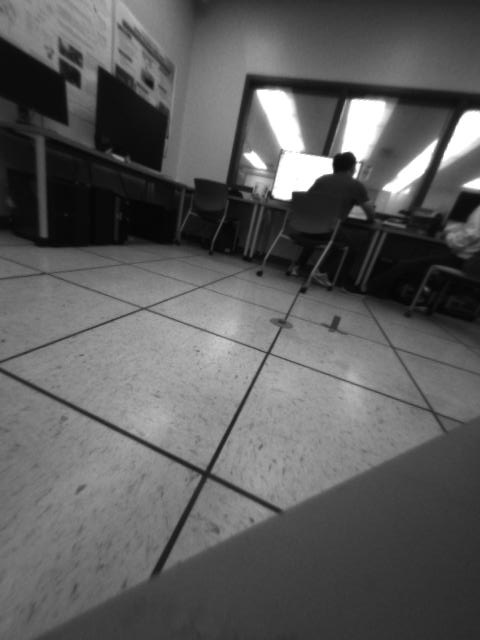X: (321, 315, 348, 335)
